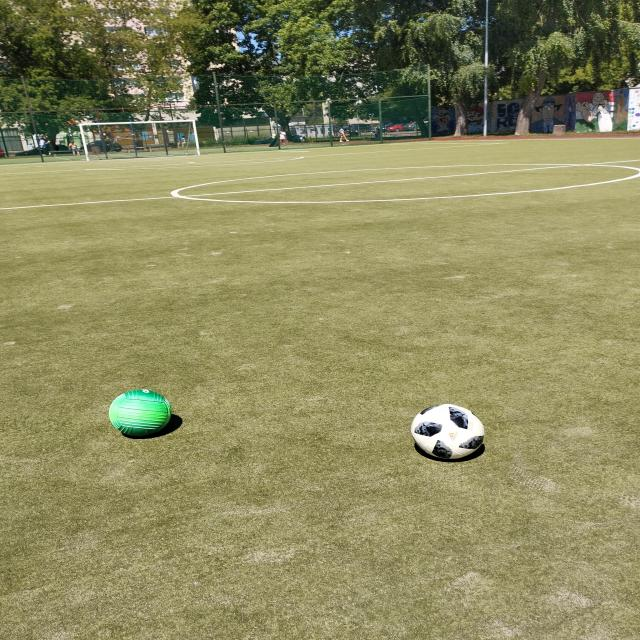nozna: (411, 404, 485, 459)
zielona: (109, 389, 171, 436)
